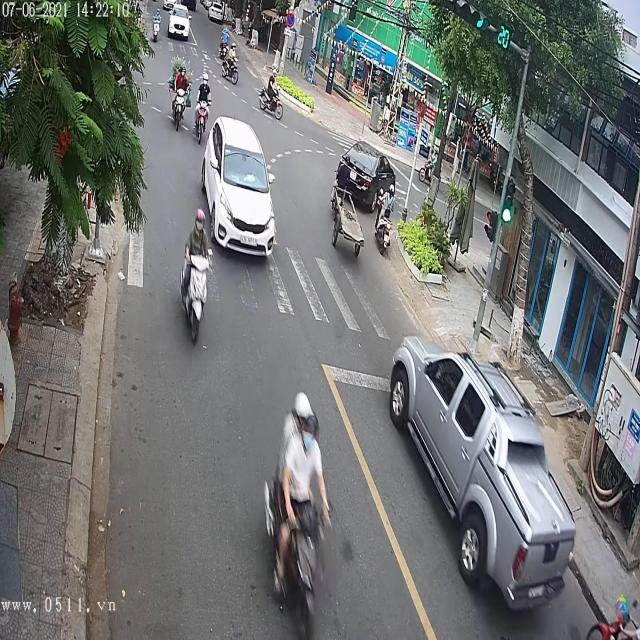car: (390, 340, 581, 610), (201, 115, 277, 258), (336, 141, 398, 213), (166, 7, 191, 42)
motorcycle: (178, 239, 215, 348), (376, 194, 392, 256), (258, 83, 284, 120), (172, 79, 189, 133), (195, 94, 211, 144), (221, 54, 240, 84), (152, 15, 160, 42)
